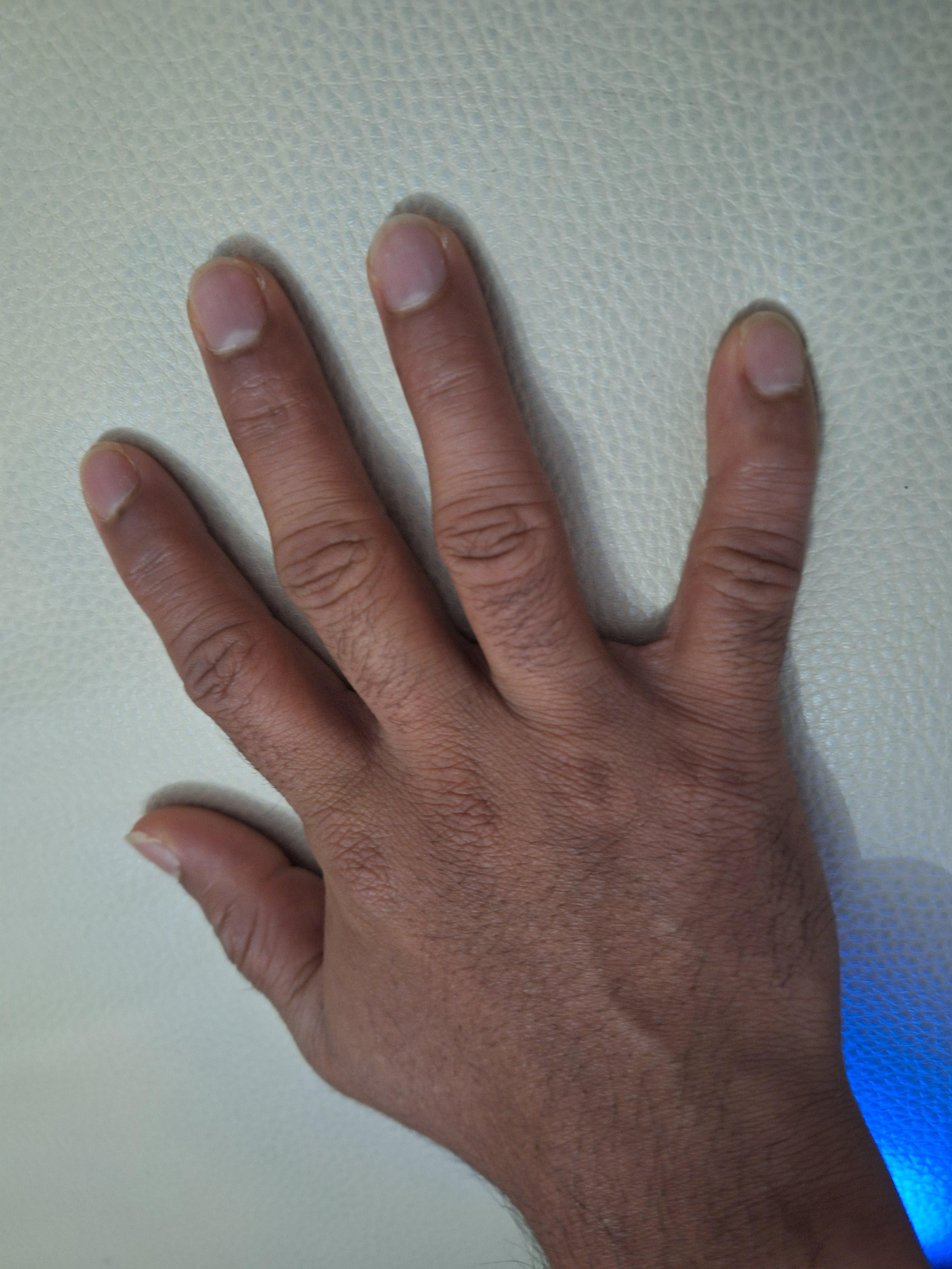Fingernail: (369, 214, 448, 311), (188, 258, 266, 351), (740, 310, 806, 395), (79, 441, 139, 520), (125, 830, 180, 882)
